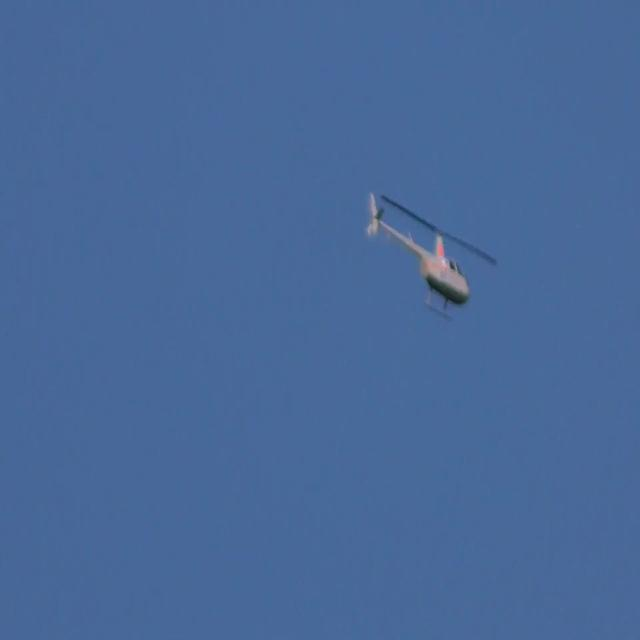CIV_HELO: (367, 192, 470, 322)
